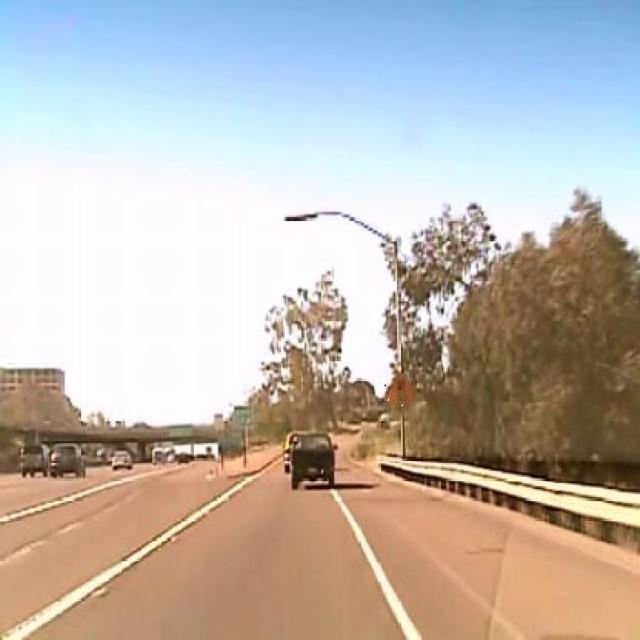signalAhead: (383, 369, 418, 415)
